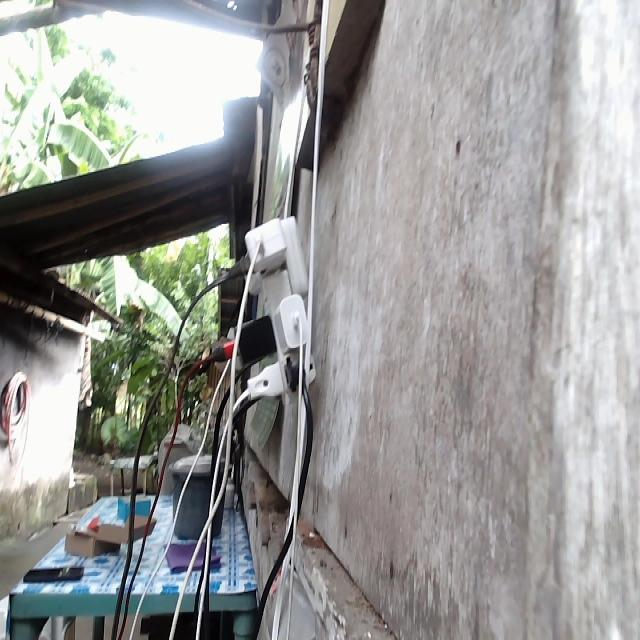-: (213, 216, 314, 405)
